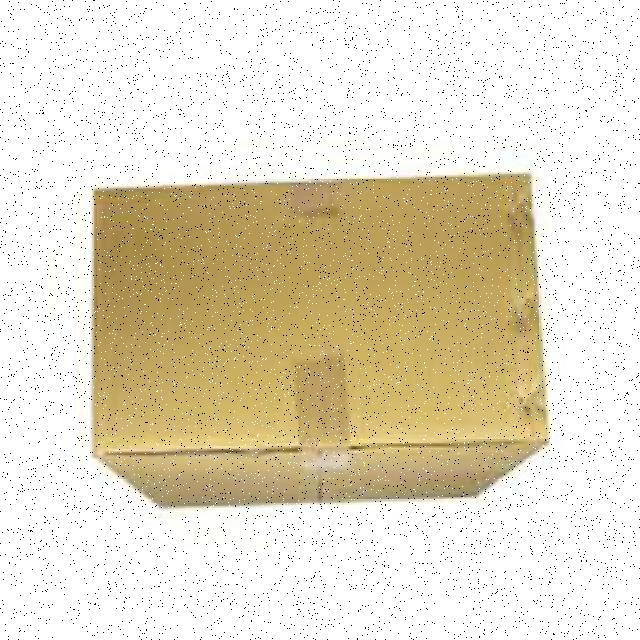normal: (88, 174, 552, 508)
